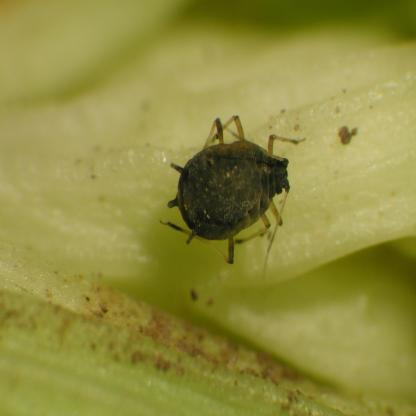aphid: (158, 107, 312, 274)
